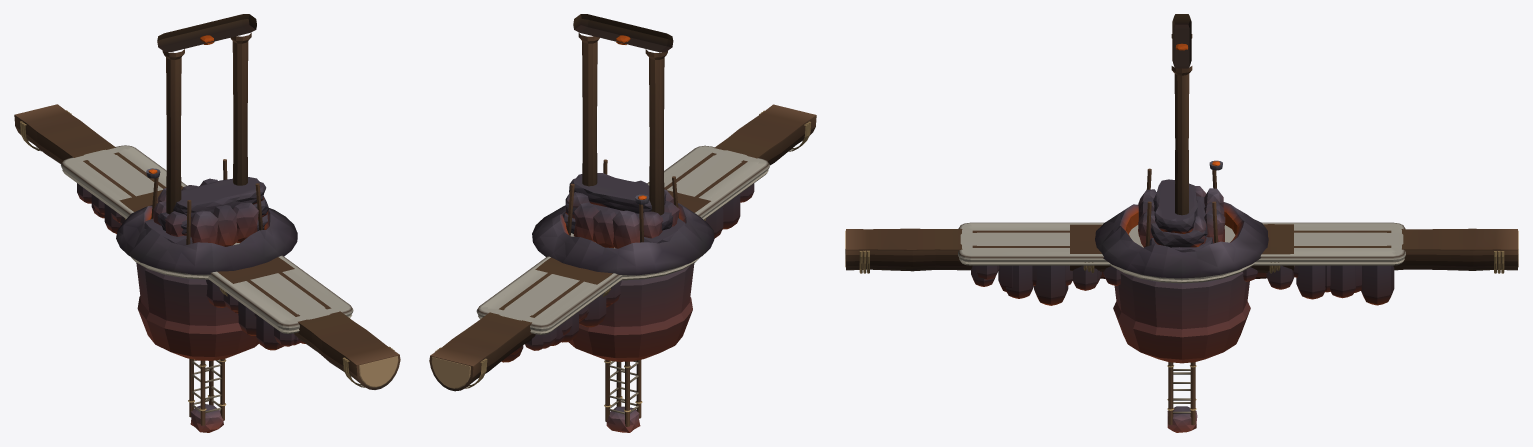
The model's file is volcano-2-CW39T4m3.glb.
3 renders of one model, left to right at view 1: azimuth 30°, elevation 25°; view 2: azimuth 150°, elevation 25°; view 3: azimuth 270°, elevation 25°, orthographic. The views are drawn at different scales.
Parts seen in each view (by area): view 1: block_3.5x2x48_plank#0, disc_12x1.5#0, pressFrame_3.5x6x2x7#0, geyserVent_8#0, block_6x2x32_grate#0, hopper_4x3#0, block_2.5x2x32_grate#0, spout_6x2#0, block_5x2x32#0, truss_14#0, beam_5x1.5x16_plank#0; view 2: block_3.5x2x48_plank#0, disc_12x1.5#0, pressFrame_3.5x6x2x7#0, geyserVent_8#0, block_6x2x32_grate#0, hopper_4x3#0, block_5x2x32#0, block_2.5x2x32_grate#0, spout_6x2#0, truss_14#0, beam_5x1.5x16_plank#0; view 3: block_6x2x32_grate#0, block_3.5x2x48_plank#0, disc_12x1.5#0, geyserVent_8#0, block_5x2x32#0, pressFrame_3.5x6x2x7#0, block_2.5x2x32_grate#0, spout_6x2#0, hopper_4x3#0, beam_5x1.5x16_plank#0, truss_14#0.
Boxes of the visible parts, x1,y1,x2,y2 form: block_3.5x2x48_plank#0: (14,104,400,389); disc_12x1.5#0: (131,242,259,360); pressFrame_3.5x6x2x7#0: (157,14,256,214); geyserVent_8#0: (116,203,297,274); block_6x2x32_grate#0: (61,145,353,350); hopper_4x3#0: (146,159,263,246); block_2.5x2x32_grate#0: (83,149,330,319); spout_6x2#0: (144,177,269,245); block_5x2x32#0: (71,147,342,345); truss_14#0: (188,358,226,432); beam_5x1.5x16_plank#0: (119,186,294,296); block_3.5x2x48_plank#0: (429,104,816,391); disc_12x1.5#0: (568,233,699,361); pressFrame_3.5x6x2x7#0: (573,14,673,215); geyserVent_8#0: (532,202,714,275); block_6x2x32_grate#0: (476,145,769,362); hopper_4x3#0: (566,159,679,248); block_5x2x32#0: (487,148,759,354); block_2.5x2x32_grate#0: (499,150,747,320); spout_6x2#0: (562,173,685,243); truss_14#0: (604,360,642,432); beam_5x1.5x16_plank#0: (535,190,710,297); block_6x2x32_grate#0: (958,222,1405,305); block_3.5x2x48_plank#0: (845,228,1518,273); disc_12x1.5#0: (1110,225,1253,363); geyserVent_8#0: (1095,202,1268,278); block_5x2x32#0: (962,226,1401,292); pressFrame_3.5x6x2x7#0: (1171,14,1192,215); block_2.5x2x32_grate#0: (960,233,1403,245); spout_6x2#0: (1149,179,1213,252); hopper_4x3#0: (1138,160,1225,247); beam_5x1.5x16_plank#0: (1070,224,1294,273); truss_14#0: (1167,362,1197,432).
Size of the model in its own units: 12.8 by 31.14 by 48.12.
